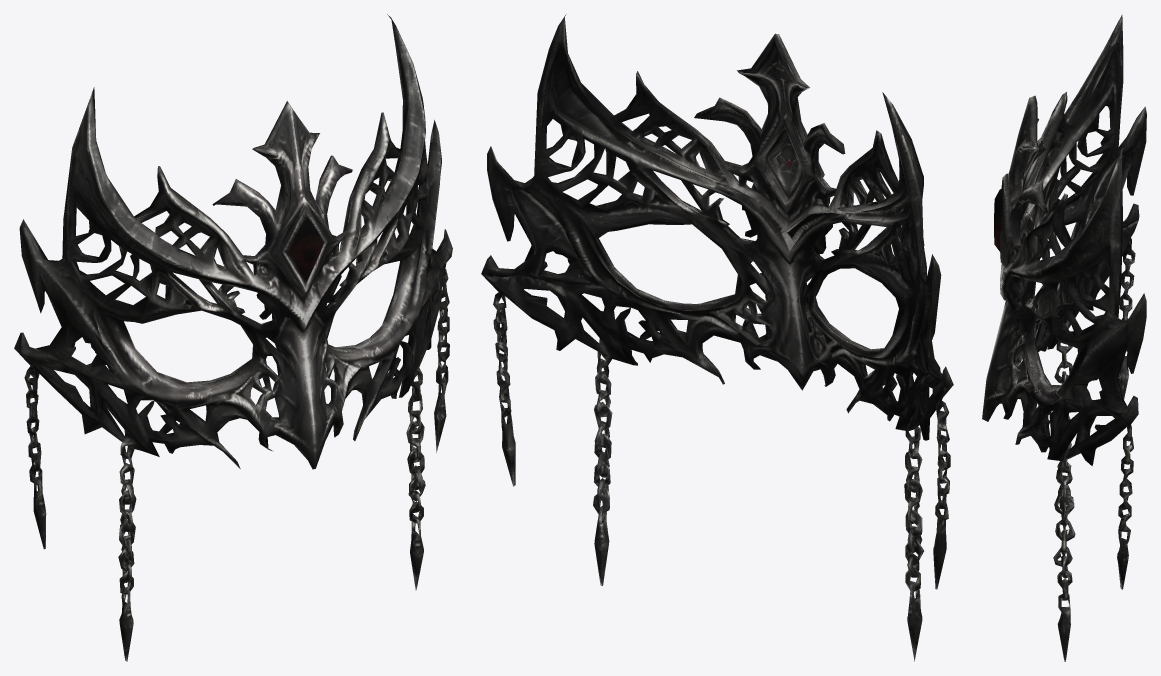
File: Meshy_AI_Obsidian_Mask_of_Chai_0607215538_texture.glb
3 views of the same model, side by side, from view 1: azimuth 30°, elevation 25°; view 2: azimuth 150°, elevation 25°; view 3: azimuth 270°, elevation 25° (orthographic). The views are drawn at different scales.
Parts seen in each view (by area): view 1: Mesh_0; view 2: Mesh_0; view 3: Mesh_0.
Boxes of the visible parts, bbox=[...] form: Mesh_0: bbox=[14, 14, 452, 661]; Mesh_0: bbox=[481, 14, 953, 661]; Mesh_0: bbox=[982, 14, 1146, 661].
Bounding box in the file's own units: 1.57 × 1.91 × 0.5523.
1 material, 1 textured.
